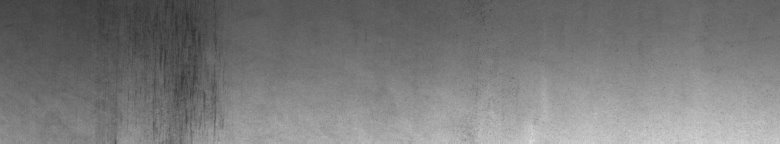ka: (114, 4, 224, 136)
